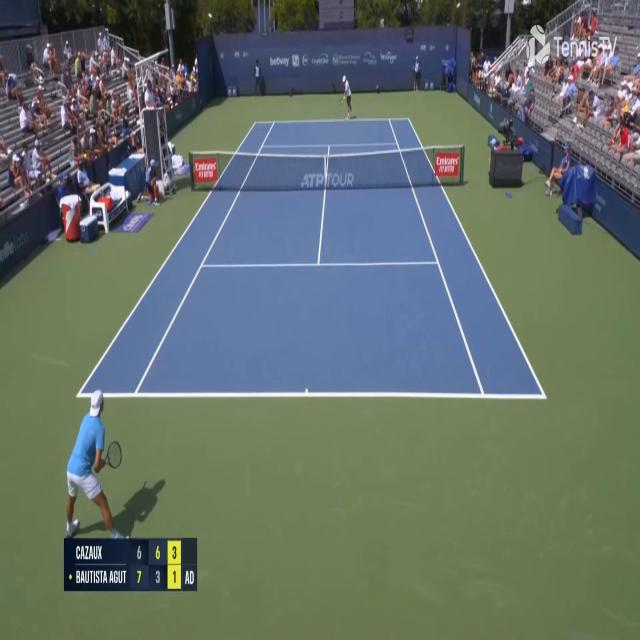tennis-player: (61, 386, 133, 546), (334, 74, 353, 120)
